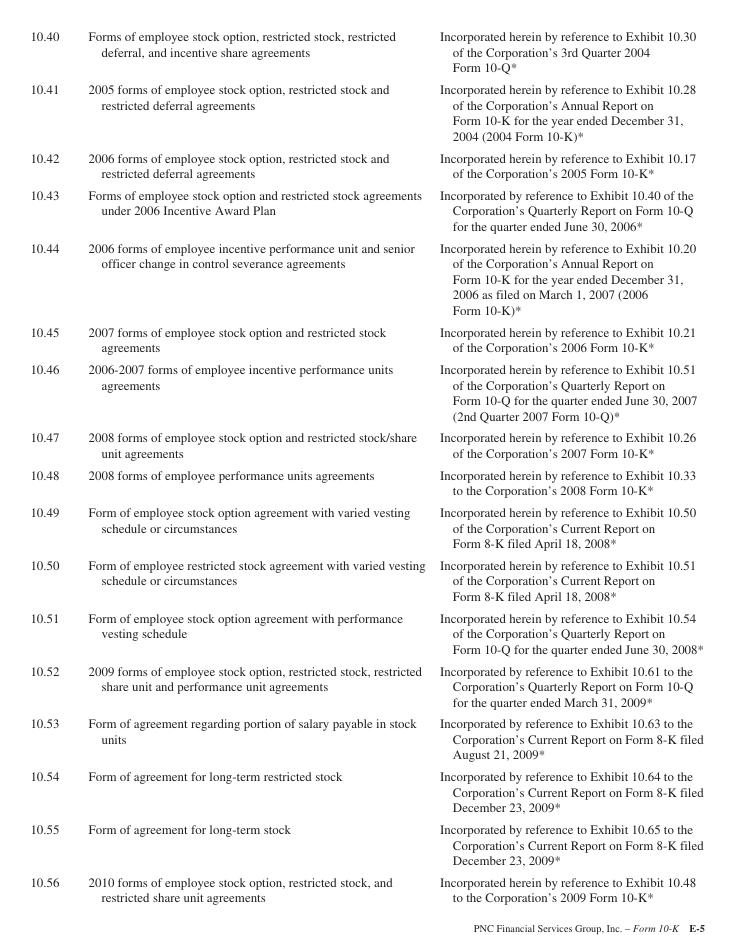table: (29, 28, 702, 904)
table column: (72, 28, 431, 904), (431, 28, 702, 904), (29, 28, 72, 904)
table column header: (29, 28, 702, 77)
table row: (29, 236, 702, 320), (29, 77, 702, 146), (29, 357, 702, 426), (29, 183, 702, 236), (29, 500, 702, 553), (29, 553, 702, 606), (29, 606, 702, 659), (29, 659, 702, 712), (29, 764, 702, 817), (29, 817, 702, 870), (29, 712, 702, 764), (29, 28, 702, 77), (29, 146, 702, 183), (29, 320, 702, 357), (29, 426, 702, 463), (29, 463, 702, 500), (29, 870, 702, 904)
